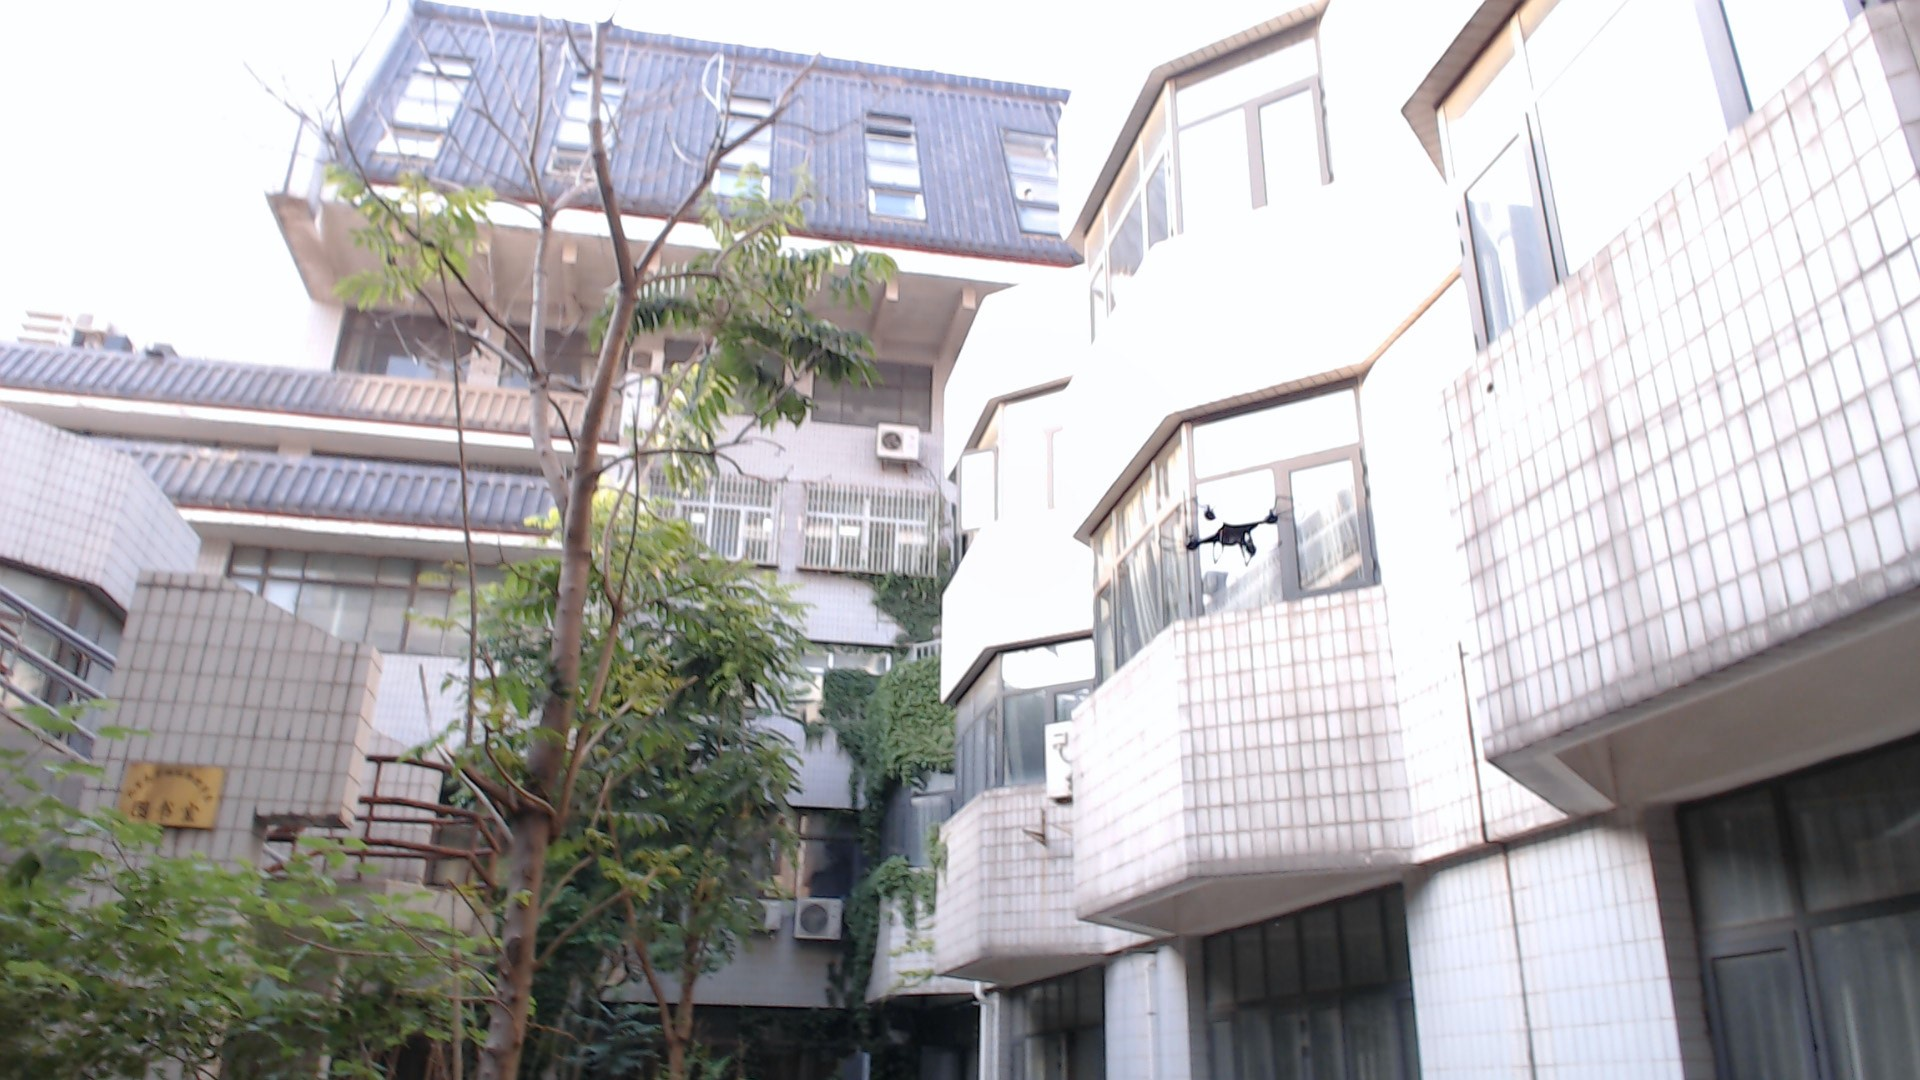drone: (1156, 471, 1323, 593)
